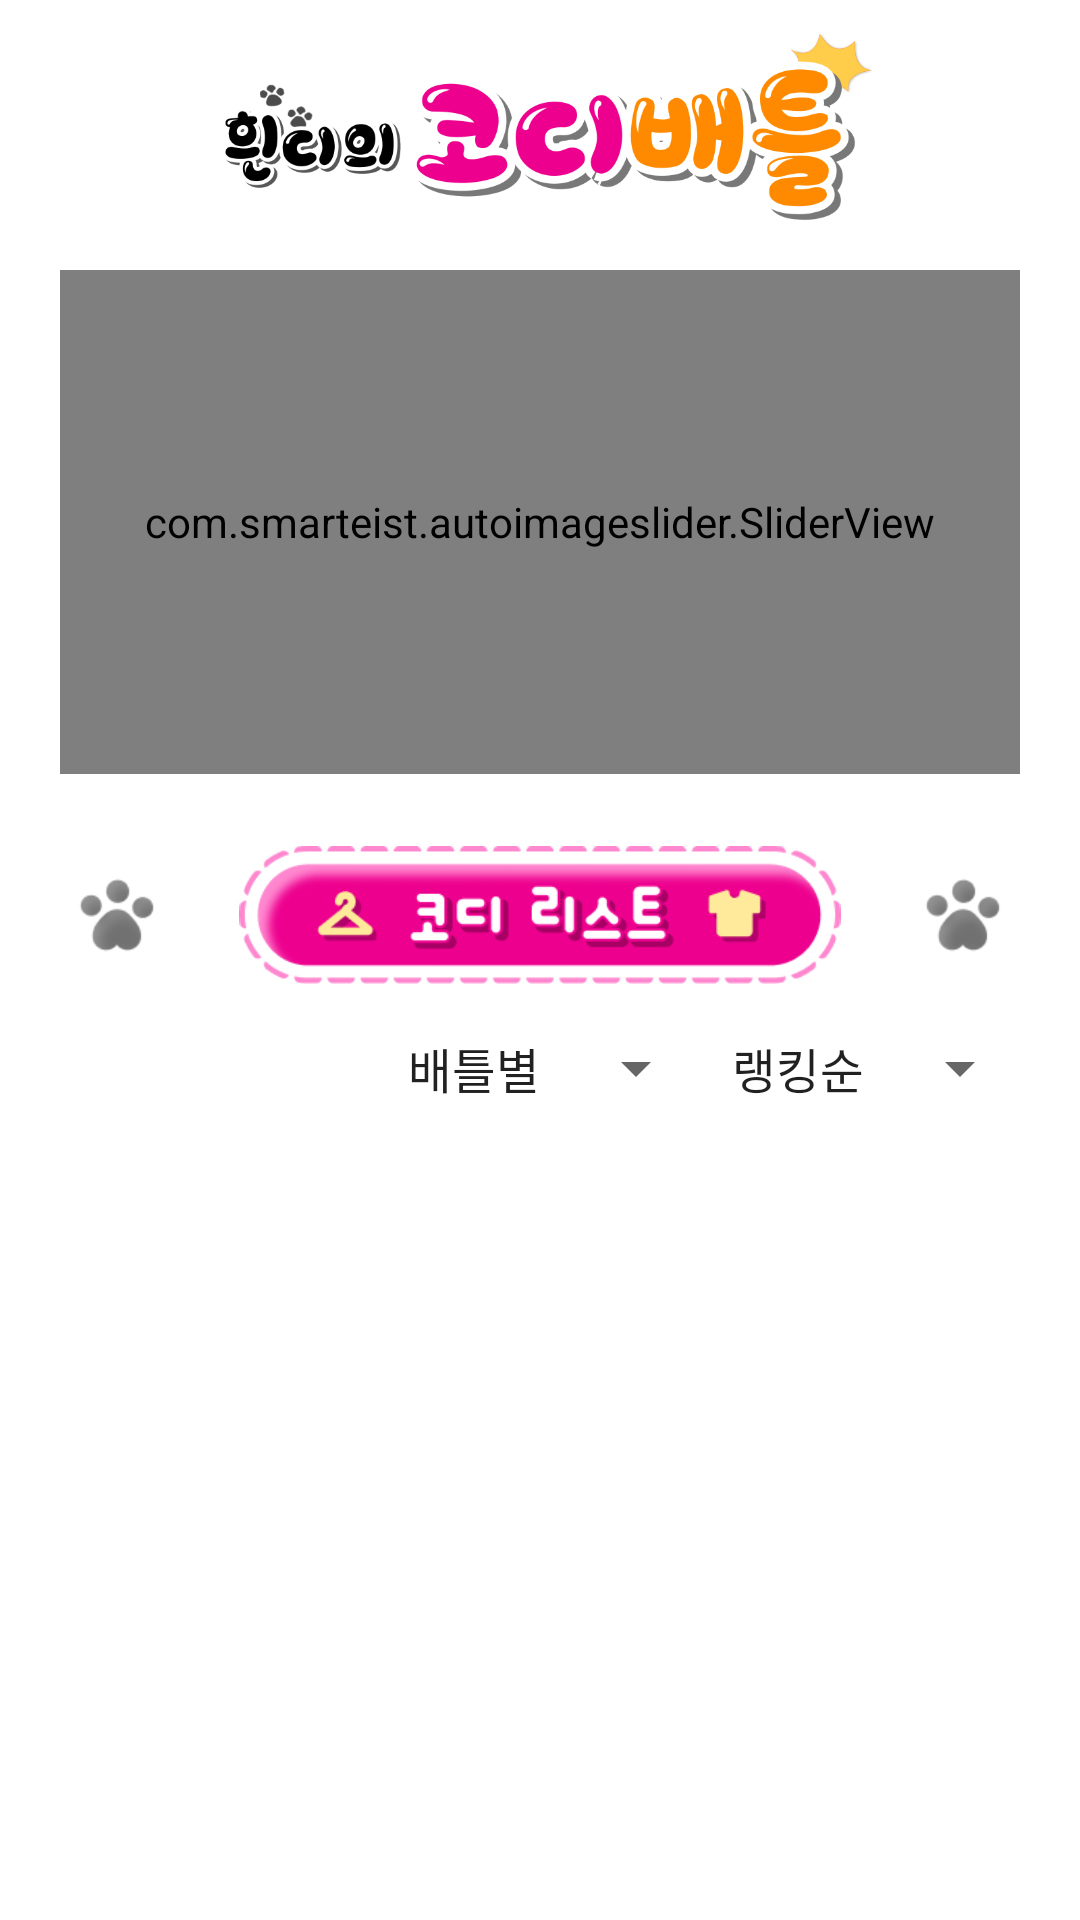

Where icons sit on this 1080px x 1920px app screen, as [x1, y1, x2, y2]:
paw: [80, 879, 154, 951], [926, 879, 1000, 951]
